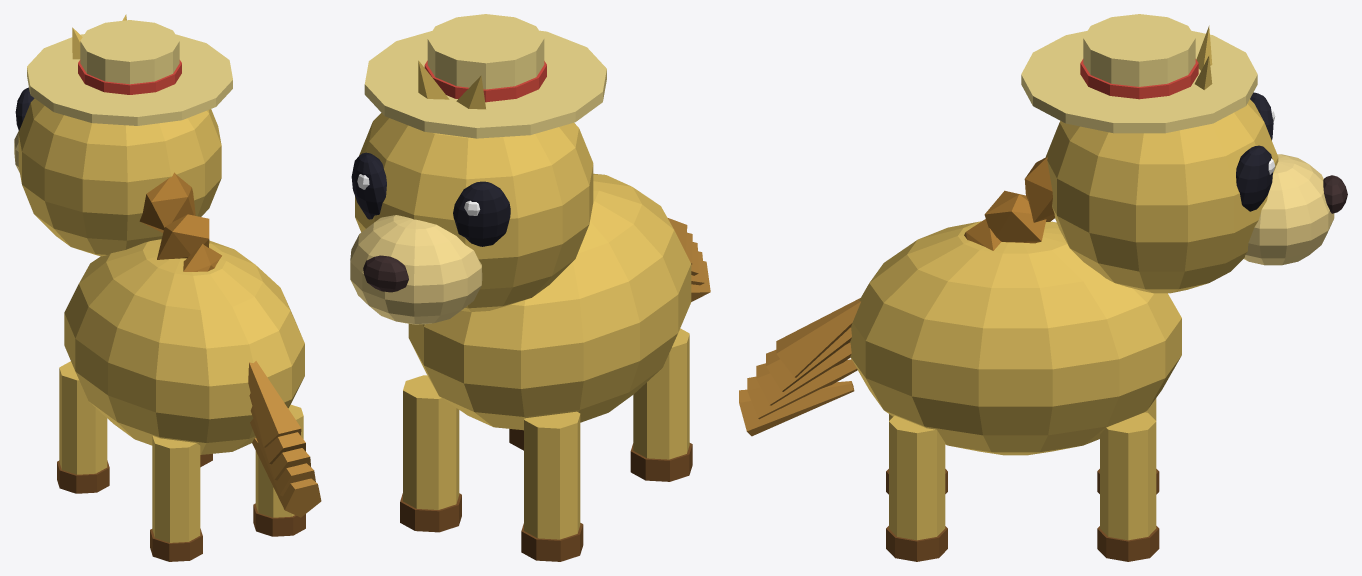
Rendered from HayHorse.fbx.
The picture shows the model from 3 angles, left to right: view 1: azimuth 30°, elevation 25°; view 2: azimuth 150°, elevation 25°; view 3: azimuth 270°, elevation 25°; orthographic projection. The views are drawn at different scales.
Visible parts, largest first — view 1: Pet_E6C35C, Pet_F2DC8A, Pet_C08A3A, Pet_B07A2E, Pet_7A4E22, Pet_D9483A, Pet_1E1E2A; view 2: Pet_E6C35C, Pet_F2DC8A, Pet_F2D88A, Pet_7A4E22, Pet_1E1E2A, Pet_3A2A2A, Pet_D9483A, Pet_C08A3A; view 3: Pet_E6C35C, Pet_F2DC8A, Pet_C08A3A, Pet_F2D88A, Pet_B07A2E, Pet_7A4E22, Pet_1E1E2A, Pet_D9483A.
Part boxes in pixels (x1,y1,x2,y2): Pet_E6C35C: (18, 14, 304, 542); Pet_F2DC8A: (27, 20, 232, 125); Pet_C08A3A: (248, 361, 321, 517); Pet_B07A2E: (139, 172, 221, 271); Pet_7A4E22: (57, 454, 305, 561); Pet_D9483A: (78, 60, 181, 94); Pet_1E1E2A: (15, 87, 34, 130); Pet_E6C35C: (355, 60, 691, 539); Pet_F2DC8A: (364, 14, 606, 138); Pet_F2D88A: (350, 215, 482, 324); Pet_7A4E22: (400, 429, 692, 561); Pet_1E1E2A: (351, 152, 510, 246); Pet_3A2A2A: (363, 255, 408, 292); Pet_D9483A: (424, 60, 546, 102); Pet_C08A3A: (668, 218, 710, 301); Pet_E6C35C: (850, 25, 1278, 540); Pet_F2DC8A: (1021, 14, 1257, 133); Pet_C08A3A: (739, 298, 860, 436); Pet_F2D88A: (1244, 154, 1334, 265); Pet_B07A2E: (964, 157, 1054, 250); Pet_7A4E22: (886, 469, 1159, 561); Pet_1E1E2A: (1236, 92, 1273, 211); Pet_D9483A: (1080, 59, 1198, 99).
Bounding box in the file's own units: 0.8641 × 1.89 × 2.16.
